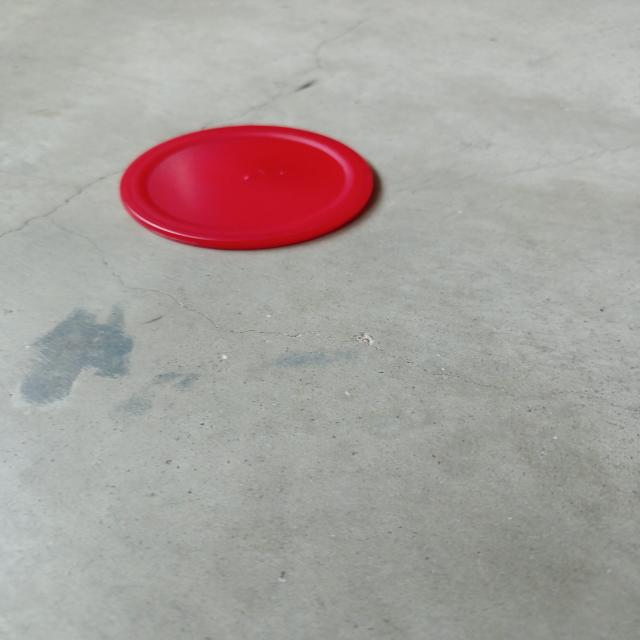chip: (117, 123, 377, 252)
